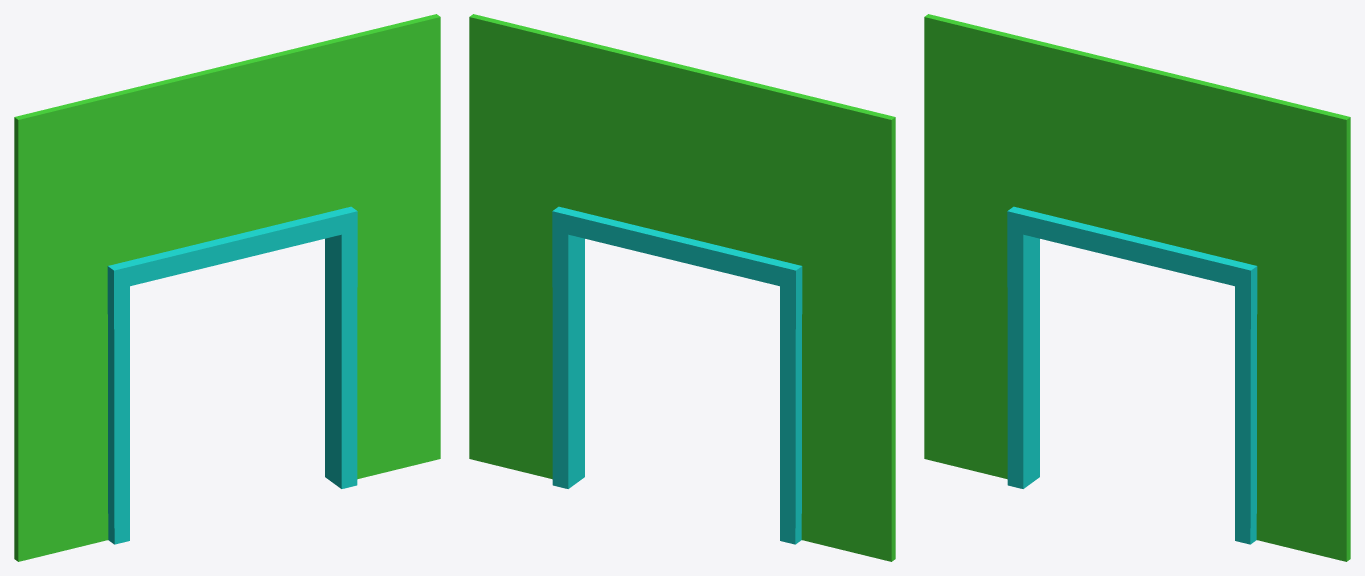
Rendered from Wall_42_Door.fbx.
The picture shows the model from 3 angles, left to right: view 1: azimuth 30°, elevation 25°; view 2: azimuth 150°, elevation 25°; view 3: azimuth 330°, elevation 25°; orthographic projection.
Visible parts, largest first — view 1: Wall_42_Door; view 2: Wall_42_Door; view 3: Wall_42_Door.
Boxes of the visible parts, x1,y1,x2,y2 form: Wall_42_Door: (14,14,440,561); Wall_42_Door: (469,14,895,561); Wall_42_Door: (924,14,1350,561).
Bounding box in the file's own units: 457 × 457 × 31.31.
